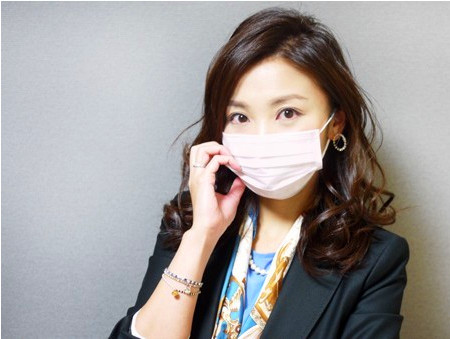face_mask: (224, 59, 324, 200)
